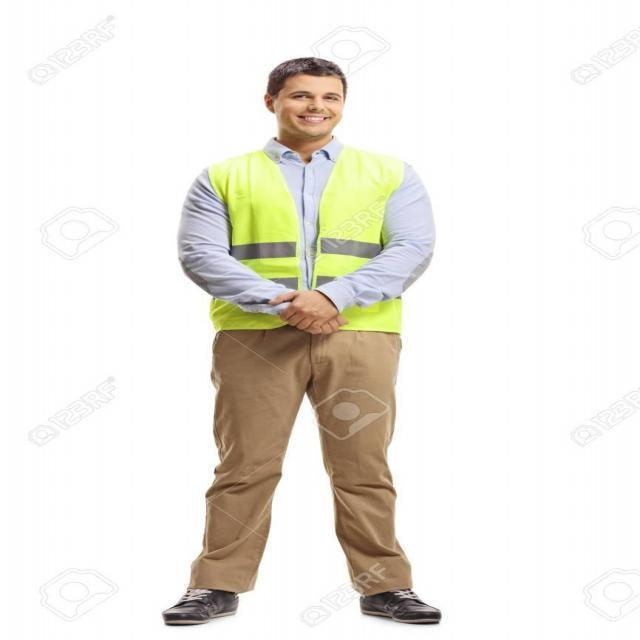no-helmet: (256, 50, 348, 124)
vest: (190, 142, 428, 336)
